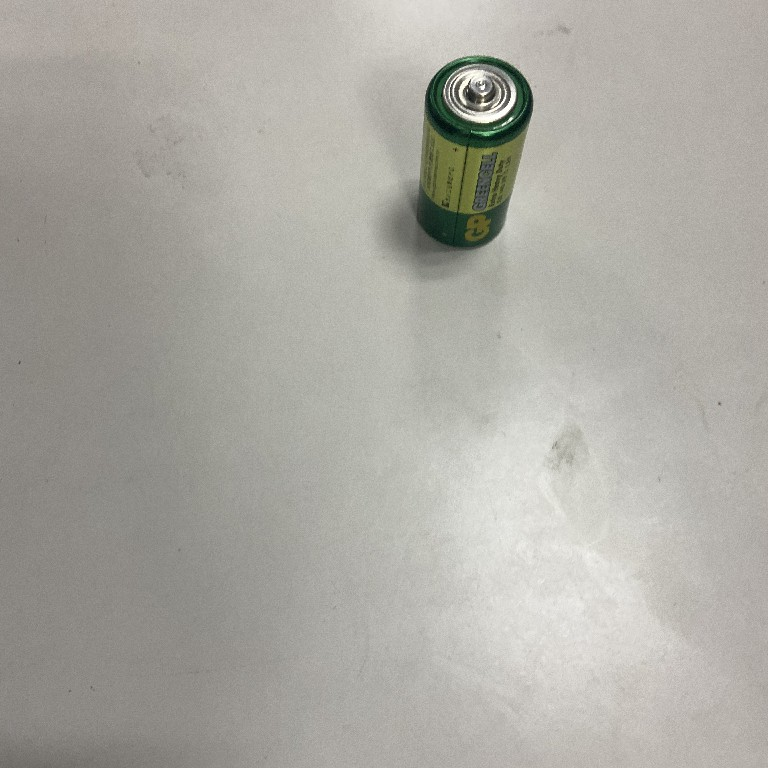charge: (411, 49, 539, 254)
